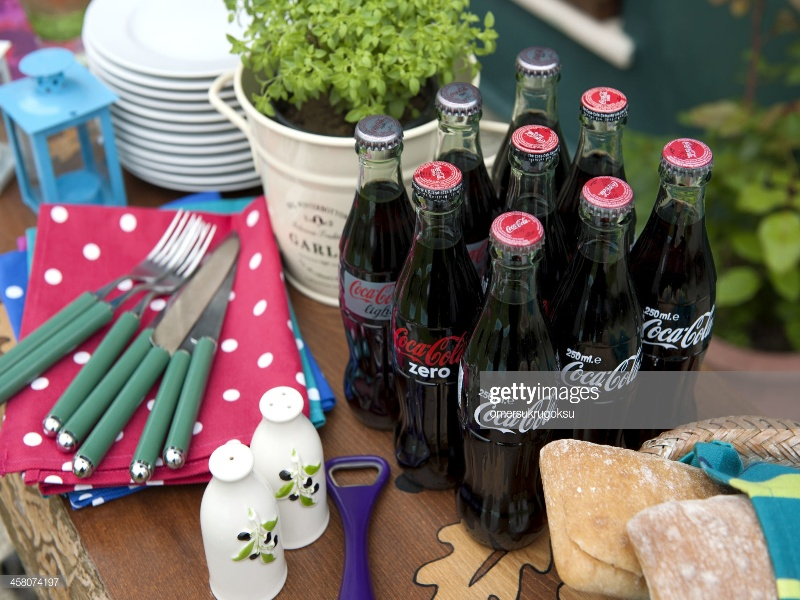coke-glass-bottle: (457, 213, 562, 546), (338, 99, 416, 427), (395, 167, 473, 493), (572, 174, 654, 436), (650, 134, 726, 359), (489, 118, 569, 208), (424, 77, 495, 149), (577, 84, 626, 165), (510, 40, 570, 102)
